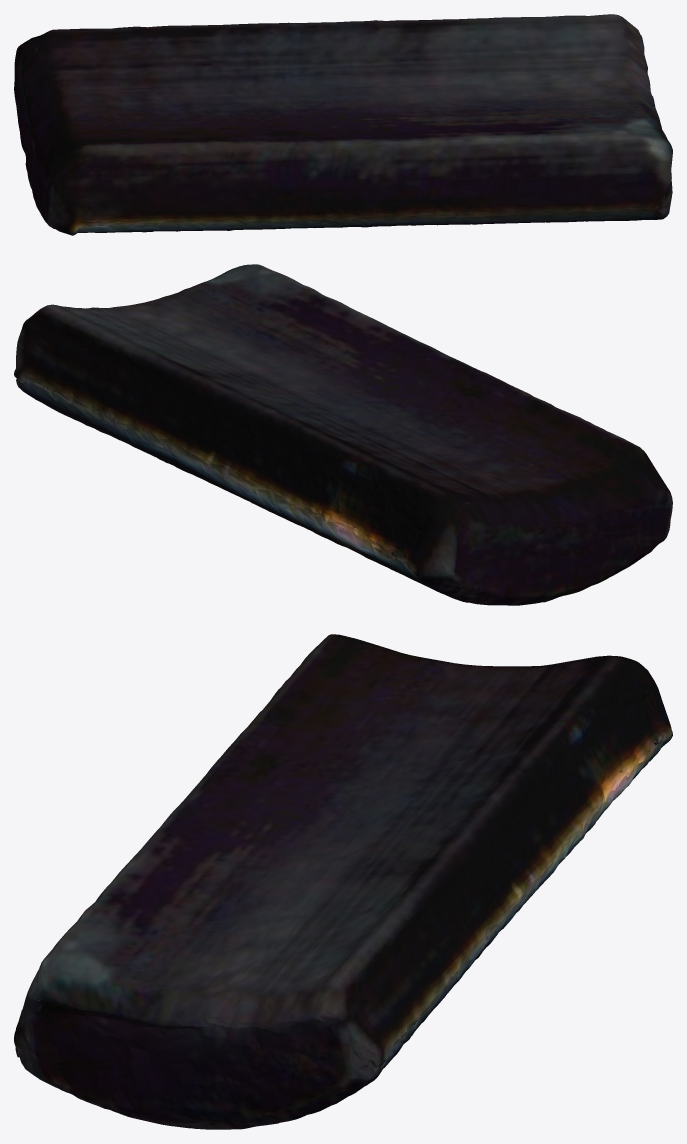
File: ciwa8.obj
3 views of the same model, one above another, from view 1: azimuth 30°, elevation 25°; view 2: azimuth 150°, elevation 25°; view 3: azimuth 270°, elevation 25° (orthographic). The views are drawn at different scales.
Size of the model in its own units: 38.08 by 9.2 by 27.79.
1 material, 1 textured.
